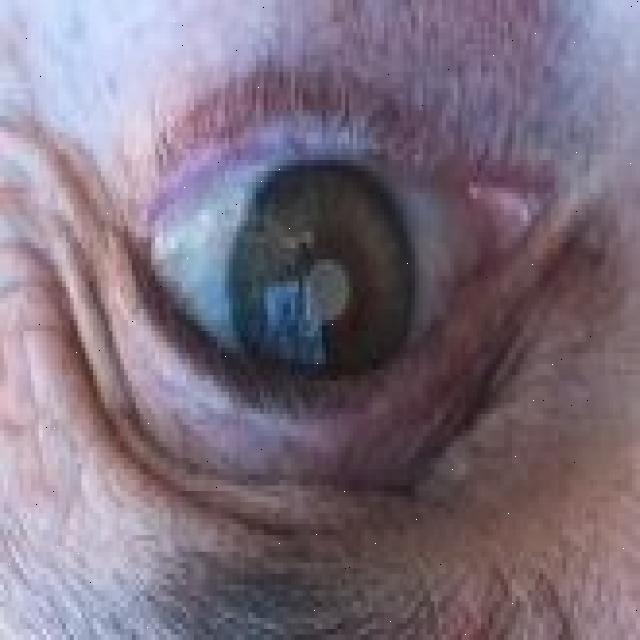Cataract: (229, 160, 422, 429)
